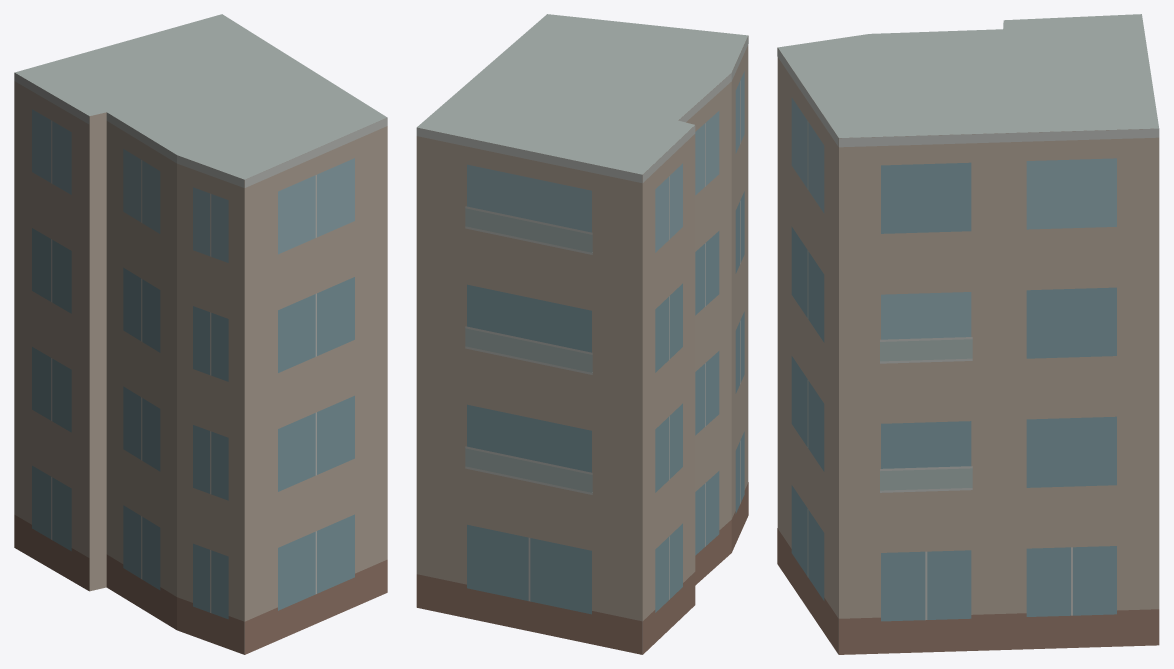
Rendered from survey-upis-32995281.glb.
3 views of the same model, side by side, from view 1: azimuth 30°, elevation 25°; view 2: azimuth 150°, elevation 25°; view 3: azimuth 270°, elevation 25° (orthographic). The views are drawn at different scales.
Visible parts, largest first — view 1: survey-upis-32995281.tmp; view 2: survey-upis-32995281.tmp; view 3: survey-upis-32995281.tmp.
Part boxes in pixels (box(x1,y1,x2,y2)): survey-upis-32995281.tmp: box(14, 14, 387, 654); survey-upis-32995281.tmp: box(416, 14, 748, 654); survey-upis-32995281.tmp: box(777, 14, 1159, 654).
Size of the model in its own units: 7.06 by 13.7 by 9.18.
